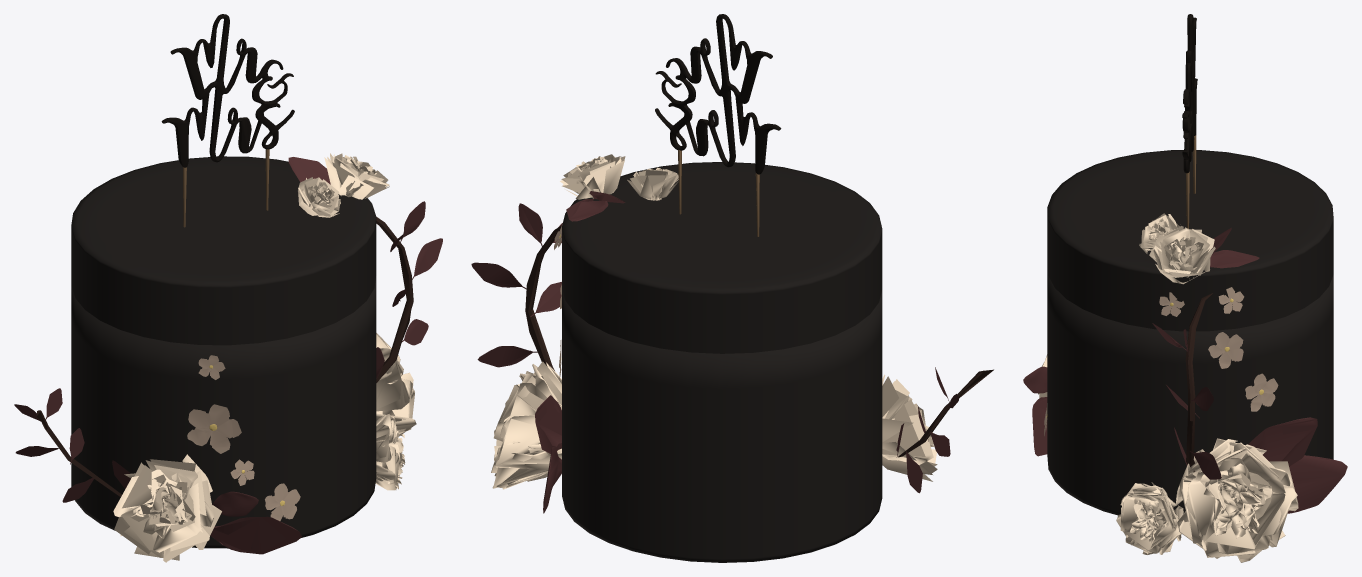
File: 1-tier-black-roses-mrms.glb
3 renders of one model, left to right at view 1: azimuth 30°, elevation 25°; view 2: azimuth 150°, elevation 25°; view 3: azimuth 270°, elevation 25°, orthographic. The views are drawn at different scales.
Visible parts, largest first — view 1: Cylinder.019, grid.039, mrms.001, Plane.083, Plane.074, Plane.075, grid.038, grid.041, grid.033, Sphere.050, grid.035, Sphere.054 (+2 smaller); view 2: Cylinder.019, mrms.001, grid.038, Plane.083, grid.039, grid.041, Plane.075, Plane.079, grid.035, Plane.086; view 3: Cylinder.019, grid.038, grid.033, grid.041, Plane.083, mrms.001, Plane.080, Plane.079, Sphere.057, Sphere.059, Plane.074, grid.035 (+3 smaller).
Boxes of the visible parts, x1,y1,x2,y2 form: Cylinder.019: (71,156,376,548); grid.039: (113,454,221,562); mrms.001: (161,14,294,227); Plane.083: (376,201,442,382); Plane.074: (210,516,301,554); Plane.075: (14,388,130,502); grid.038: (376,333,416,437); grid.041: (324,153,389,199); grid.033: (375,414,405,490); Sphere.050: (187,404,241,453); grid.035: (298,177,340,217); Sphere.054: (265,483,300,520); Cylinder.019: (562,162,882,562); mrms.001: (655,14,781,236); grid.038: (491,361,561,489); Plane.083: (471,203,562,370); grid.039: (882,374,937,481); grid.041: (560,154,625,199); Plane.075: (896,367,993,493); Plane.079: (535,395,561,453); grid.035: (627,167,678,200); Plane.086: (566,199,608,221); Cylinder.019: (1047,150,1333,515); grid.038: (1176,438,1298,562); grid.033: (1116,482,1183,554); grid.041: (1149,226,1215,284); Plane.083: (1152,293,1221,479); mrms.001: (1182,14,1197,228); Plane.080: (1287,455,1347,513); Plane.079: (1248,417,1317,466); Sphere.057: (1208,332,1243,368); Sphere.059: (1245,373,1278,411); Plane.074: (1032,397,1047,456); grid.035: (1139,213,1180,253).
Size of the model in its own units: 4.49 by 4.63 by 2.9.
